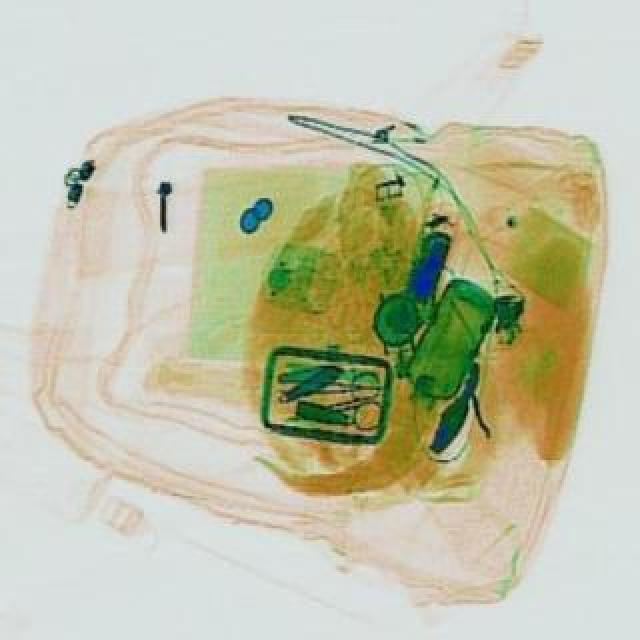pliers: (300, 366, 388, 438)
